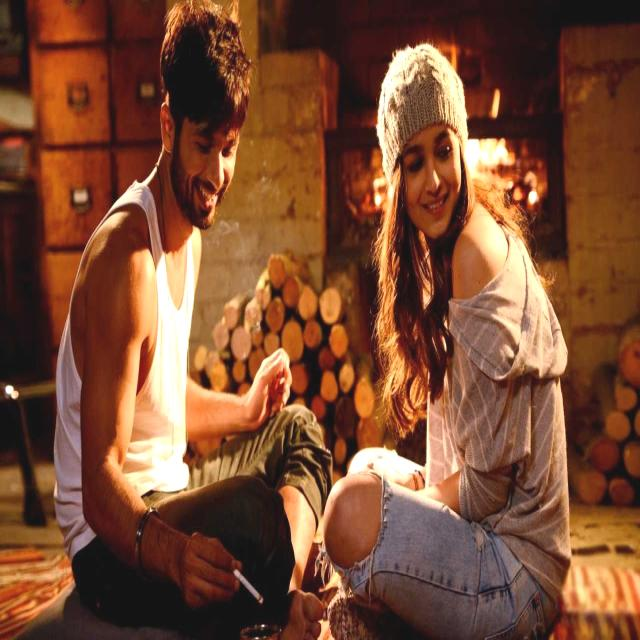Smooking: (231, 562, 266, 610)
